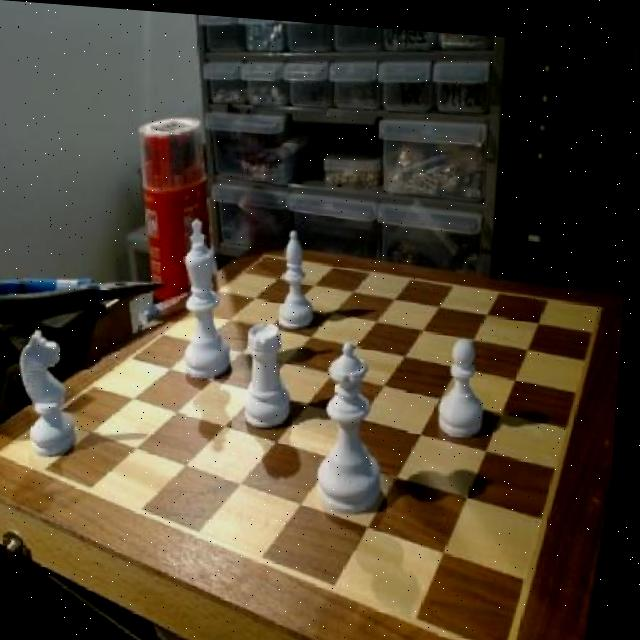black-rook: (278, 222, 323, 328)
white-king: (180, 207, 244, 386), (16, 325, 89, 462)
white-knight: (436, 325, 500, 440)
white-pawn: (320, 333, 399, 514)
white-queen: (244, 312, 303, 434)
